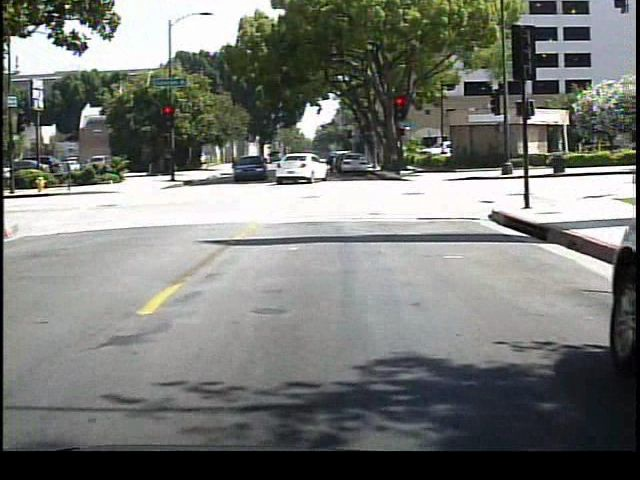person: (320, 145, 337, 182)
